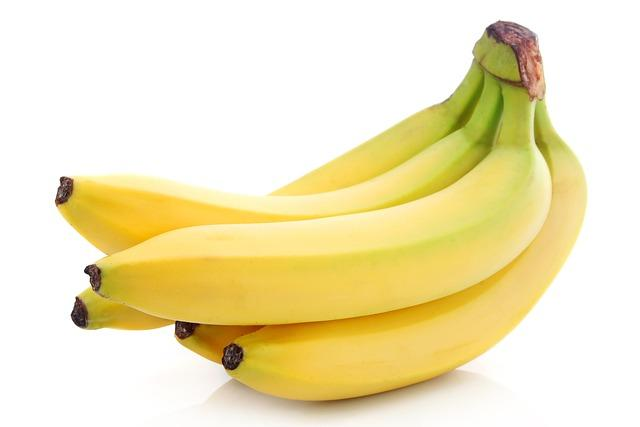banana: (59, 20, 588, 403)
